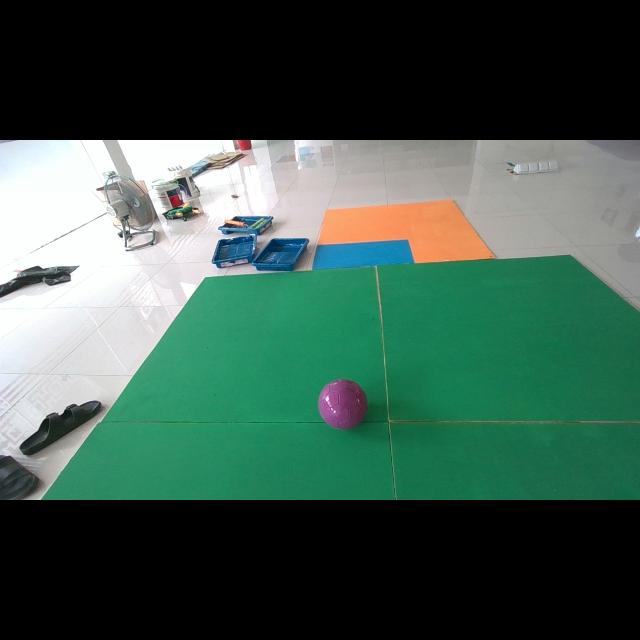P: (318, 380, 368, 429)
